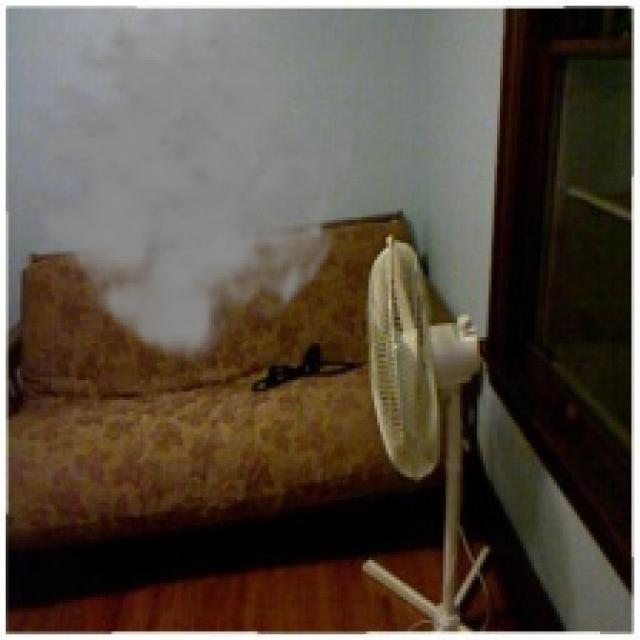Smoke: (6, 6, 372, 366)
